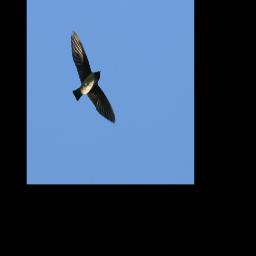Swallow: (69, 30, 114, 125)
